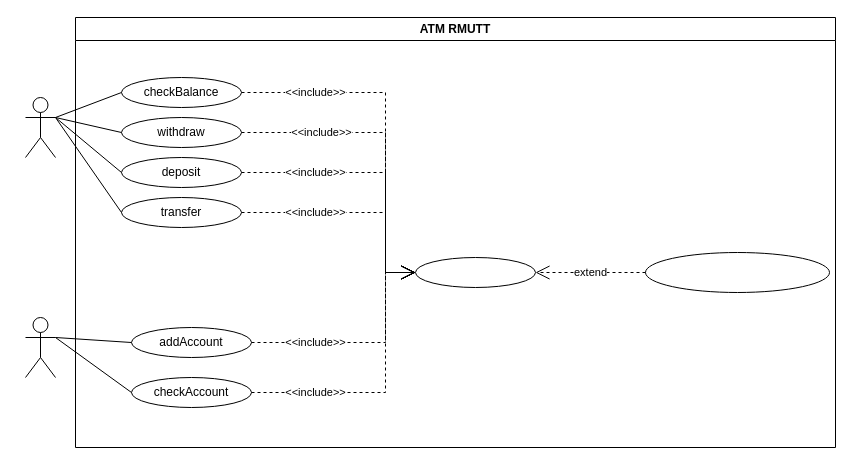
This 853x465 diagram has some shape labels left out. Each missing label, with the centre of its shape:
handle invalid account and password: pixel 737 272
login: pixel 475 272
Manager: pixel 40 347
User: pixel 40 127
